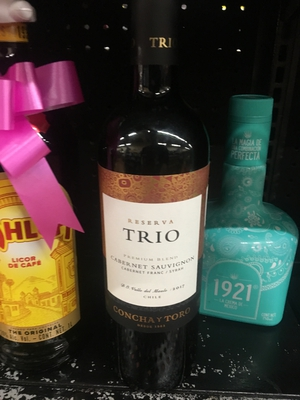trio cabernet sauvignon: (91, 8, 228, 385)
